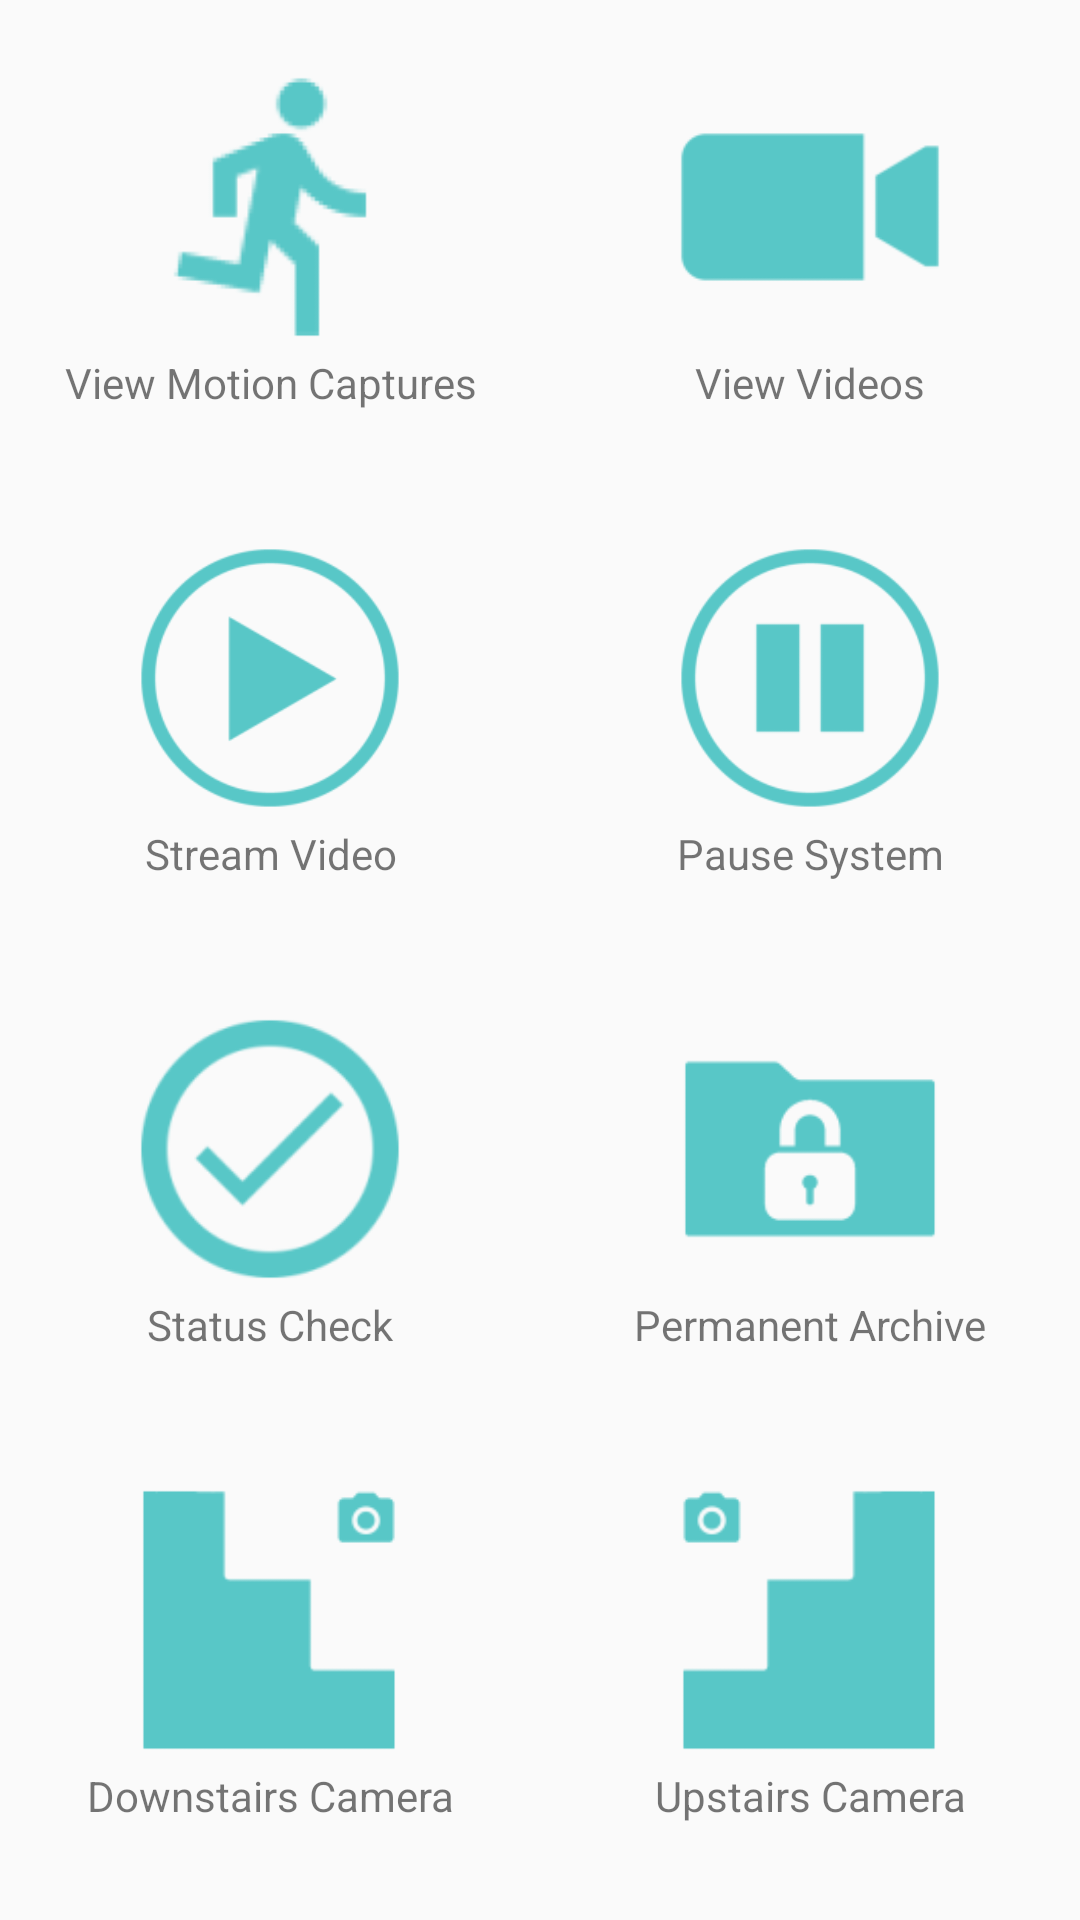

Named icons in this screenshot (1080px x 1920px) and their bounding boxes, (x1, y1, x2, y2):
play: (141, 549, 399, 807)
